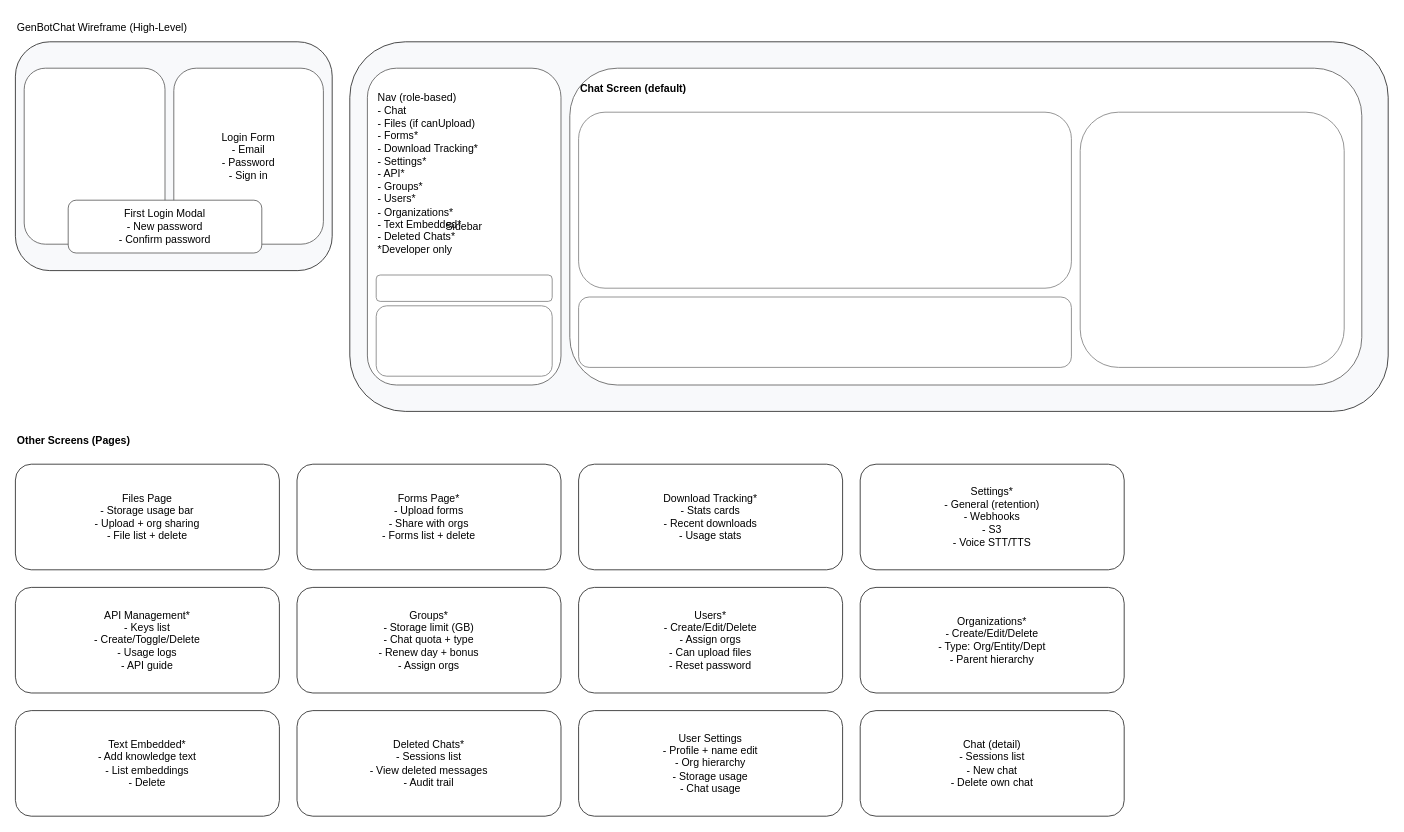
Some shapes in this 1404 by 832 pixel diagram are drawn without their labels. The box of each missing label's shape, as (x1, y1, x2, y2) in pixels:
Chat Input - Text input - File selector - Voice / Continuous mode - Send: (578, 296, 1071, 367)
Login Screen: (15, 41, 332, 271)
Main App Shell (Desktop): (349, 41, 1388, 411)
Marketing Panel - Logo - Tagline - Hero text: (23, 67, 165, 244)
Message List - User/Bot bubbles - TTS play buttons: (578, 111, 1071, 288)
Org Selector (non-dev, if >1 org): (375, 274, 552, 301)
User Profile - Avatar + Name + Role - Theme toggle - User settings - Logout: (375, 305, 552, 376)
WebView Panel (optional split view): (1079, 111, 1344, 367)
